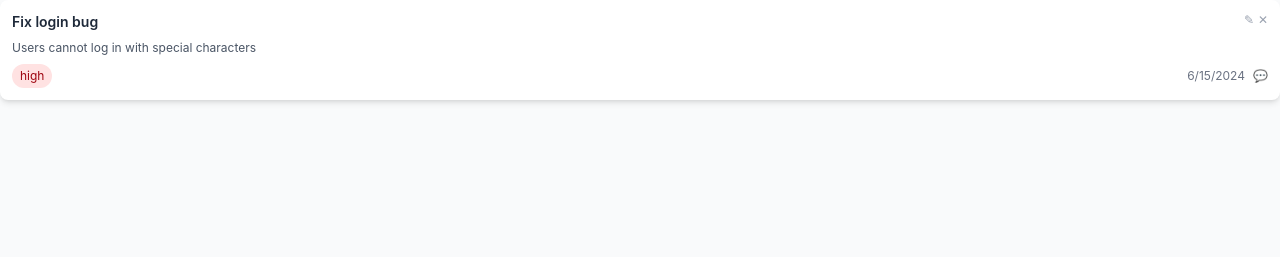
Test case: TaskCard › save editing › does not save when title is empty
Step 1. Click the button titled "Edit task" → (1249, 20), box [1244,12,1254,28]
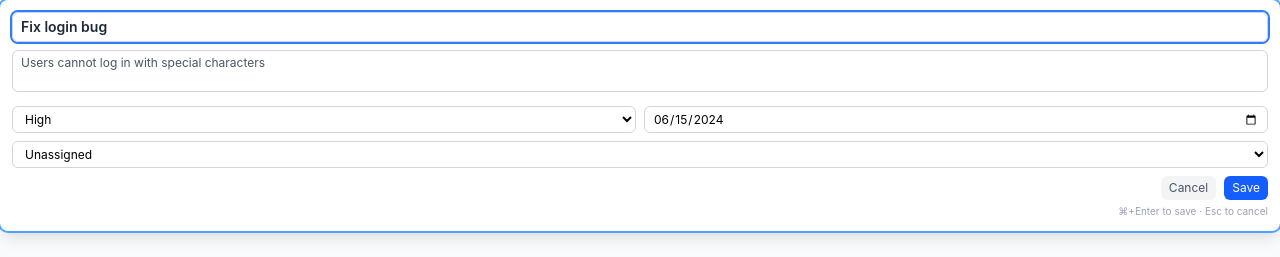
Step 2. Clear the field with placeholder "Task title" → (640, 27), box [12,12,1268,42]
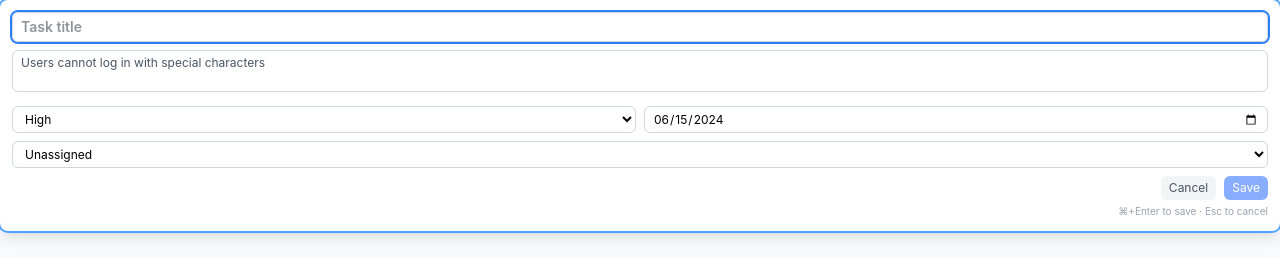
Expected: the button "Save" is disabled, [1224,176,1268,200]
